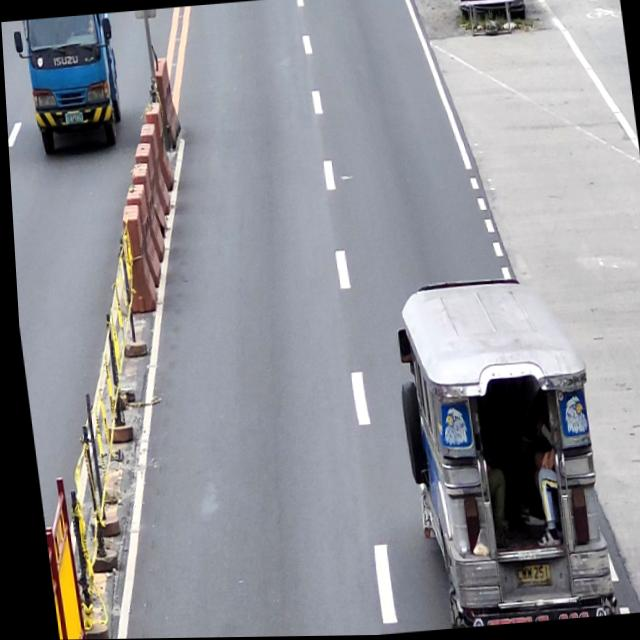Jeep: (380, 273, 614, 631)
License-Plate: (506, 563, 545, 590)
